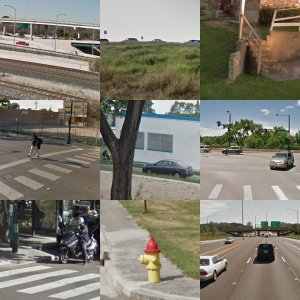公車: (229, 81, 253, 95)
汽車: (211, 108, 292, 148), (1, 60, 47, 99), (19, 41, 74, 71), (32, 211, 63, 227)
紅綠燈: (226, 28, 245, 48)
行人穿越道: (199, 249, 299, 300), (202, 150, 298, 200), (99, 160, 200, 200)
